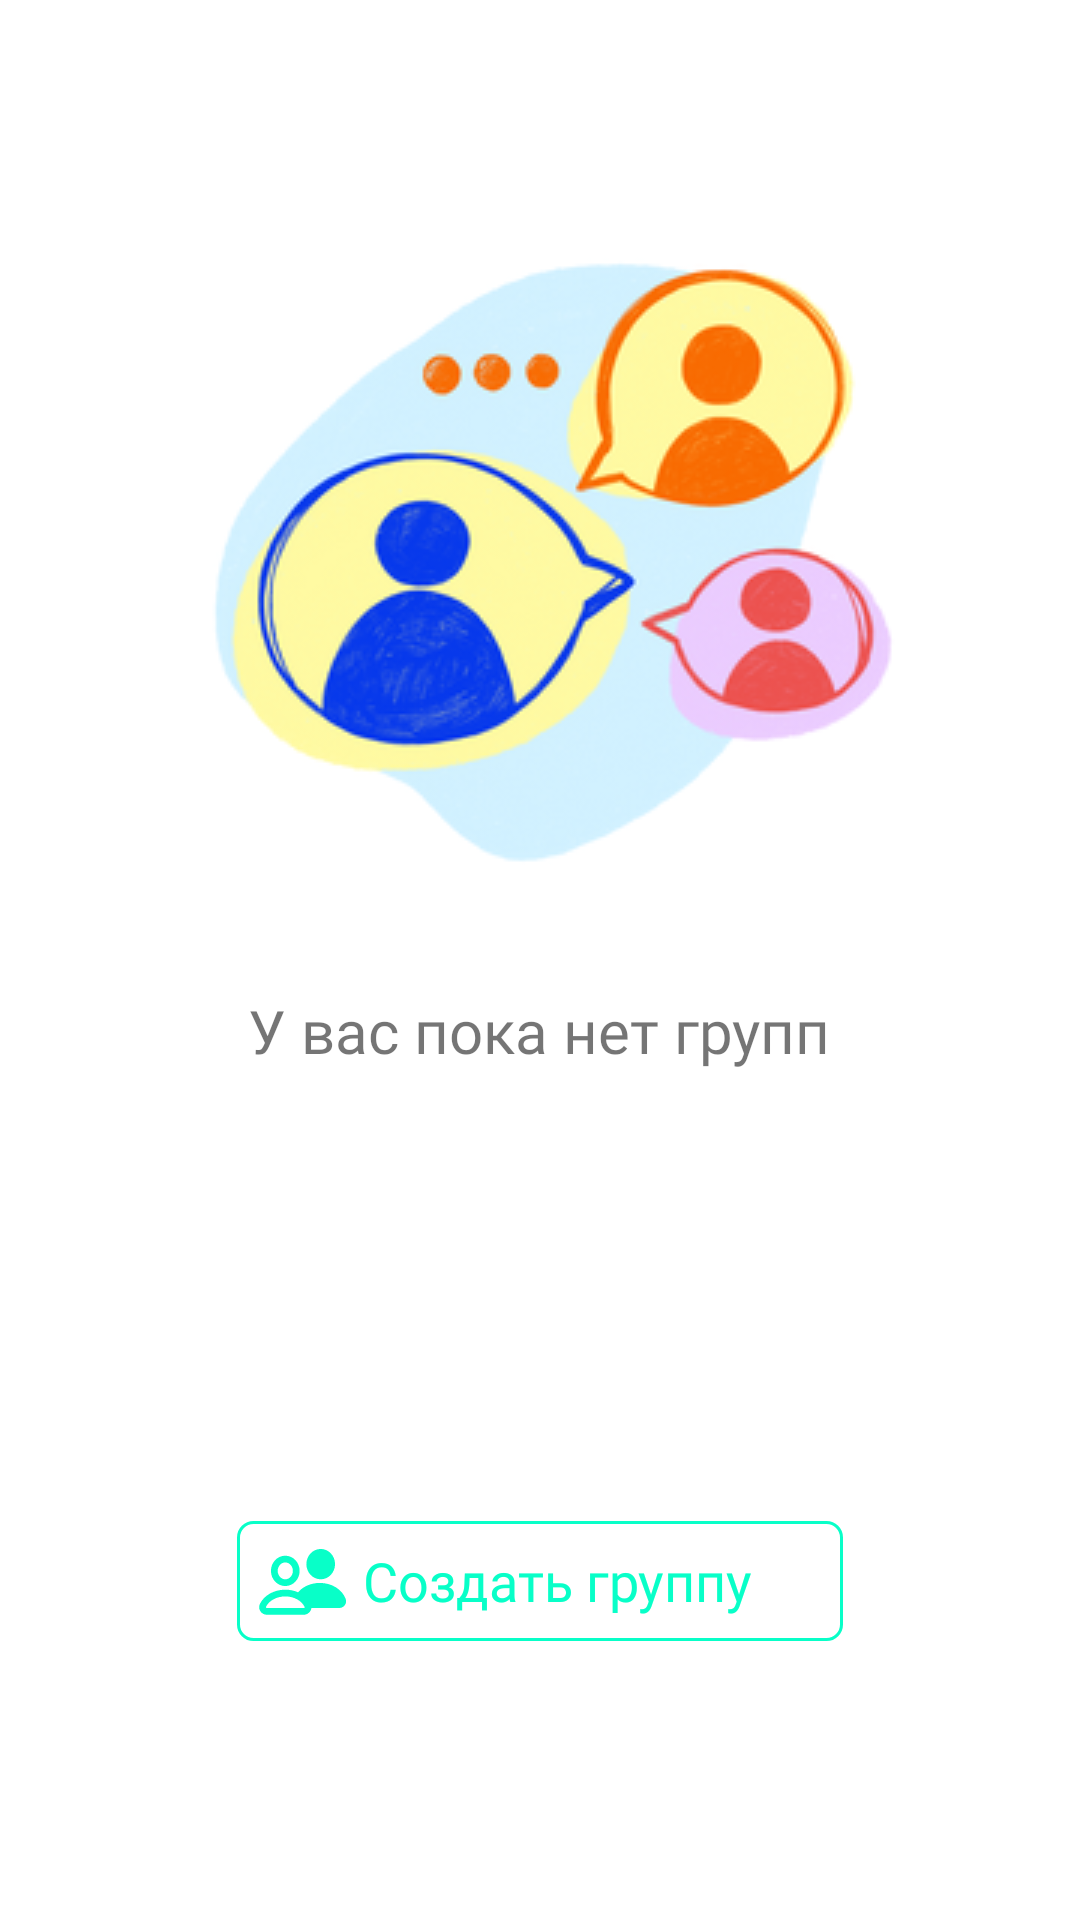

Icons on this 1080px x 1920px Android screen, each with the point to tap as [x,y]:
member: [302,1582]
